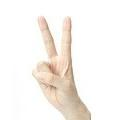tyoki: (31, 15, 76, 105)
